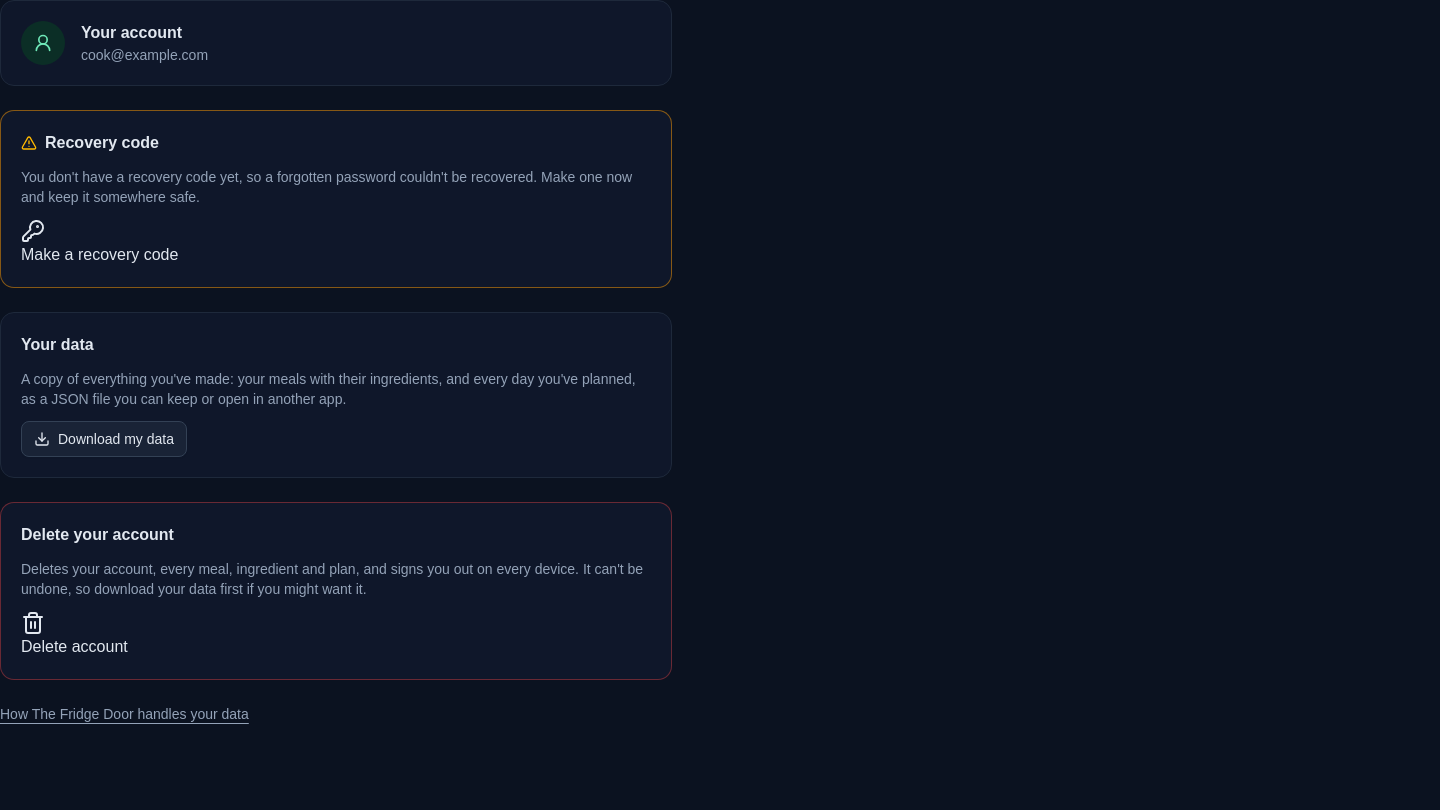
Test: the recovery code › warns an account that has none, and makes one with the password
The image size is (1440, 810).
Expected: the element "Recovery code" shows "You don't have a recovery code yet", 21,169 -> 632,205
Click the button "Make a recovery code".
click(100, 243)  # box 21,219 -> 178,267
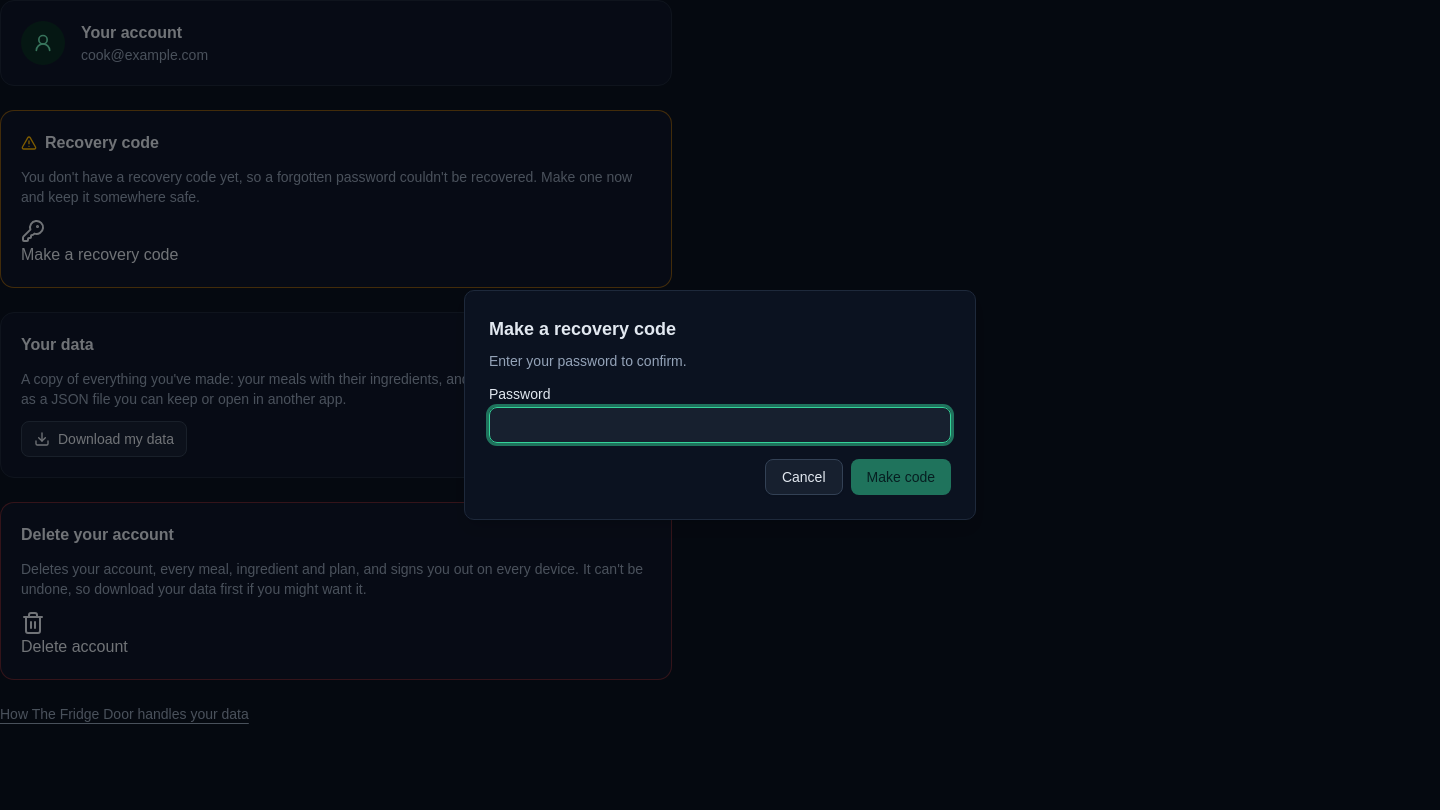
Type "lettuce harbour spoon" into the password field labelled "Password".
click(720, 425); type("lettuce harbour spoon")  # box 489,407 -> 951,443
Then press Enter
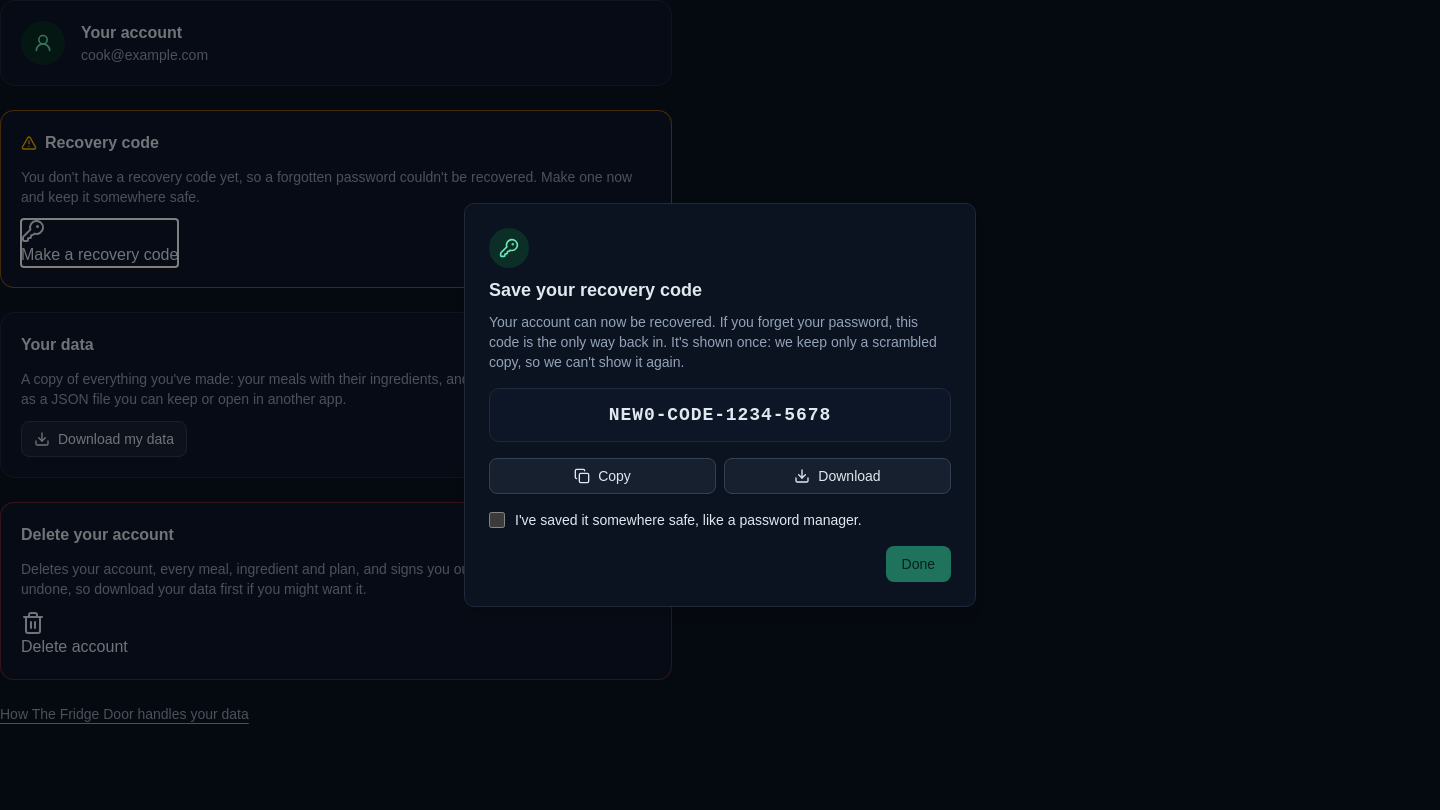
Expected: the dialog "Save your recovery code" shows "NEW0-CODE-1234-5678", 609,405 -> 831,425
